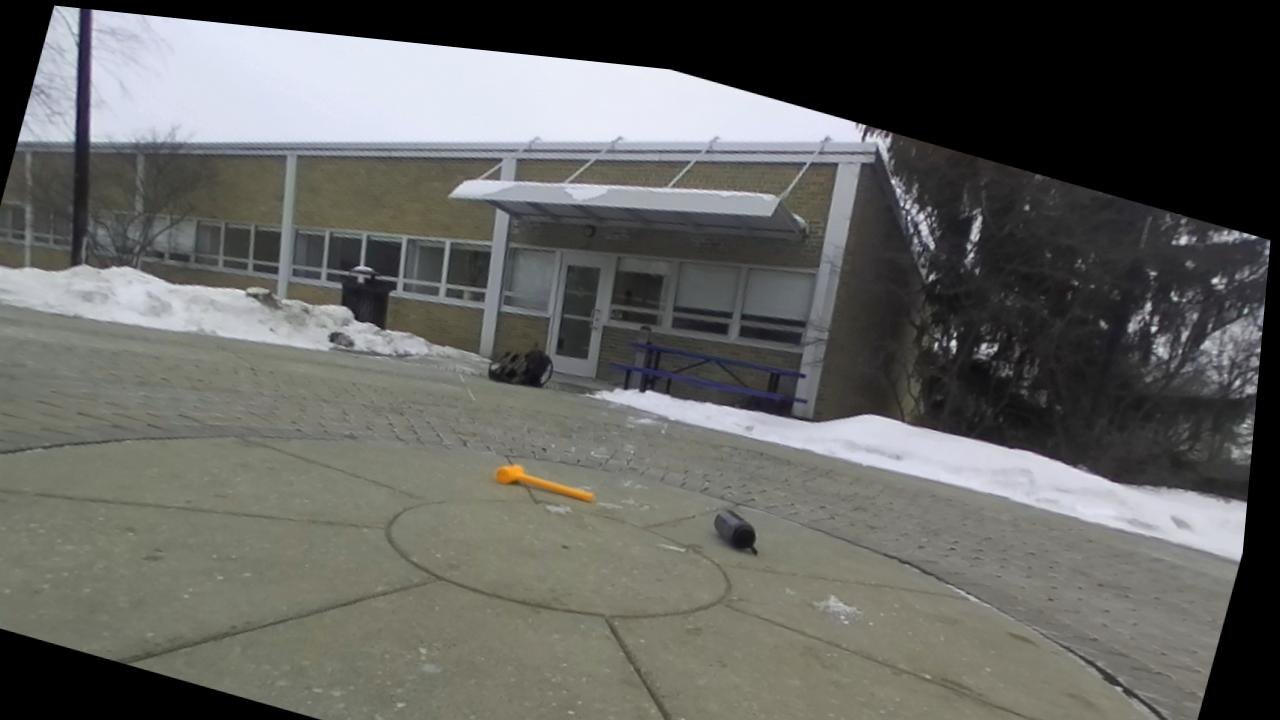bottle: (713, 511, 756, 554)
mallet: (494, 464, 593, 501)
